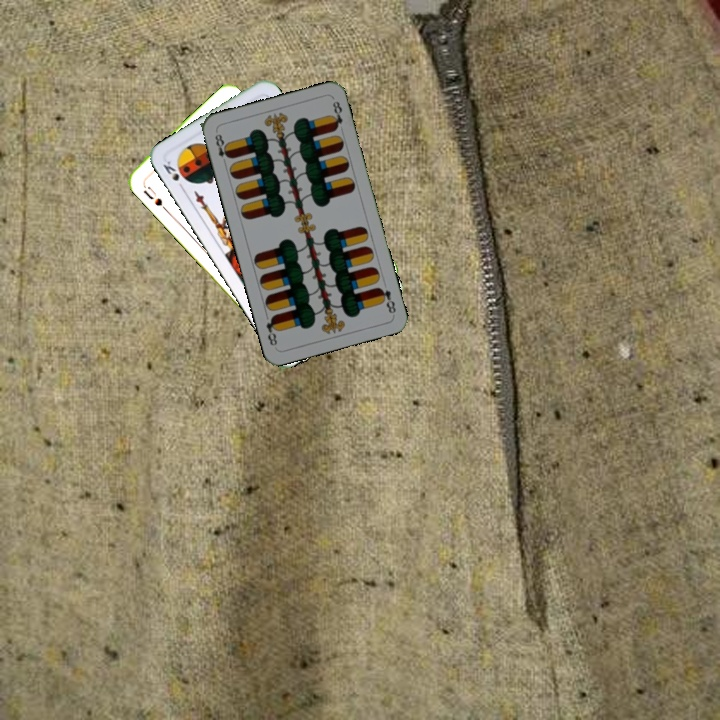E8: (211, 130, 233, 168), (374, 283, 398, 316)
SK: (159, 156, 187, 193)
SU: (138, 177, 165, 209)
